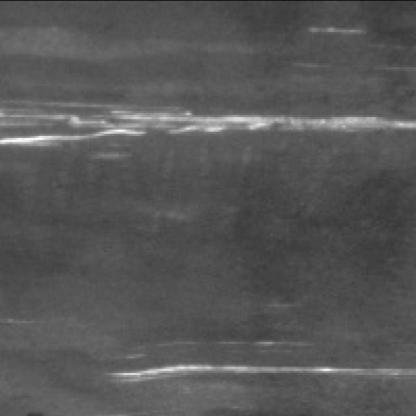scratches: (0, 98, 414, 152), (87, 351, 410, 389)
